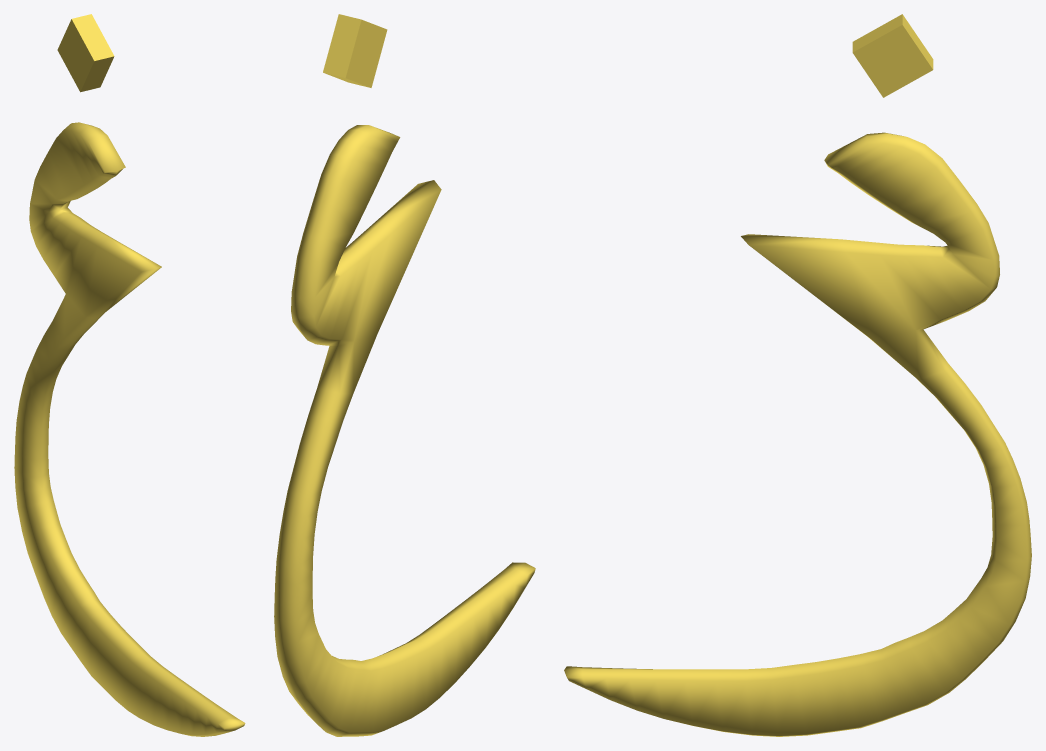
The model's file is gayn.FBX.
The picture shows the model from 3 angles, left to right: view 1: azimuth 30°, elevation 25°; view 2: azimuth 150°, elevation 25°; view 3: azimuth 270°, elevation 25°; orthographic projection. The views are drawn at different scales.
Visible parts, largest first — view 1: gayn; view 2: gayn; view 3: gayn.
Part boxes in pixels (x1=…): gayn: x1=14, y1=14, x2=245, y2=736; gayn: x1=274, y1=14, x2=535, y2=736; gayn: x1=564, y1=14, x2=1031, y2=736.
Size of the model in its own units: 7.54 by 135 by 228.
Materials: 1 (1 with a texture image).
